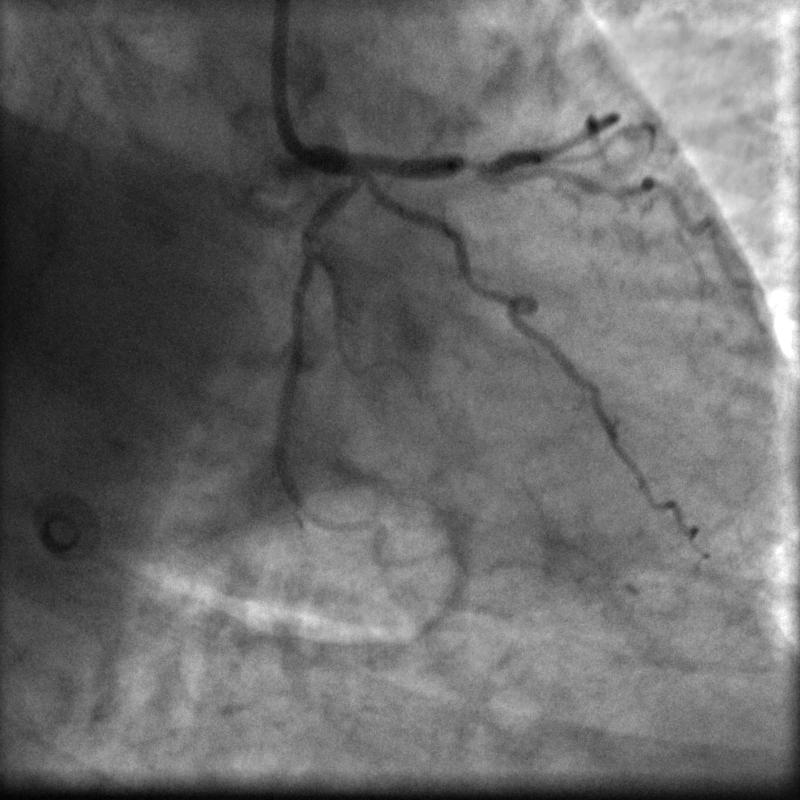Stenosis: (453, 150, 492, 184)
